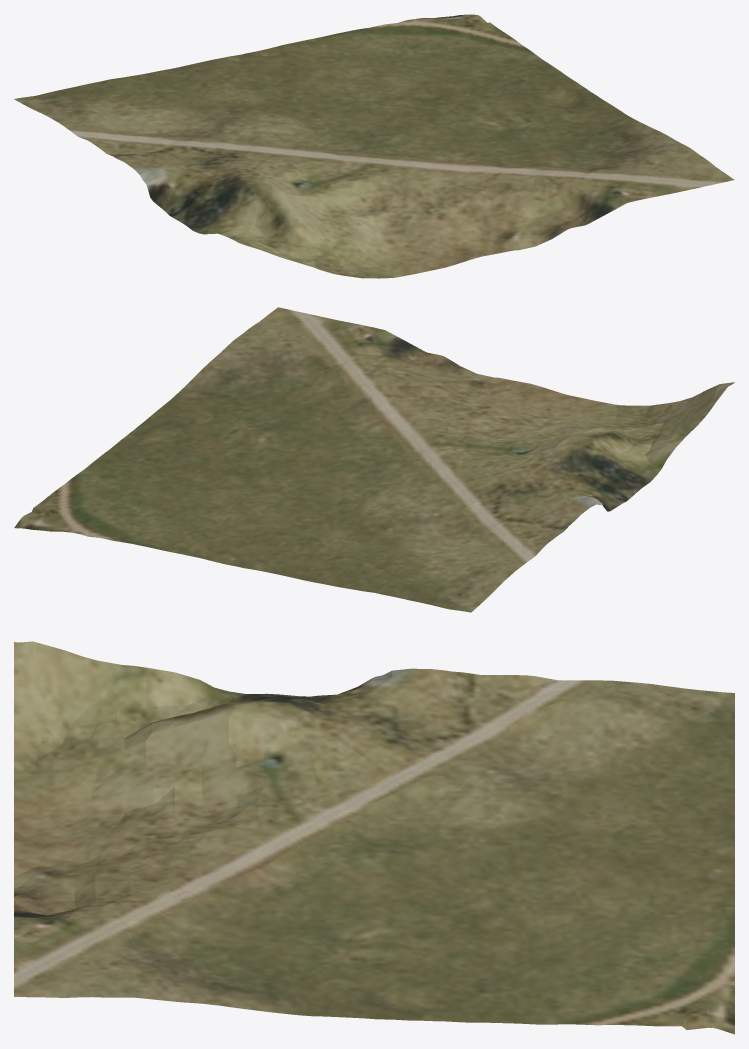
The picture shows the model from 3 angles, top to bottom: view 1: azimuth 30°, elevation 25°; view 2: azimuth 150°, elevation 25°; view 3: azimuth 270°, elevation 25°; orthographic projection. The views are drawn at different scales.
Size of the model in its own units: 104 by 14.14 by 104.
Materials: 2 (2 with a texture image).
